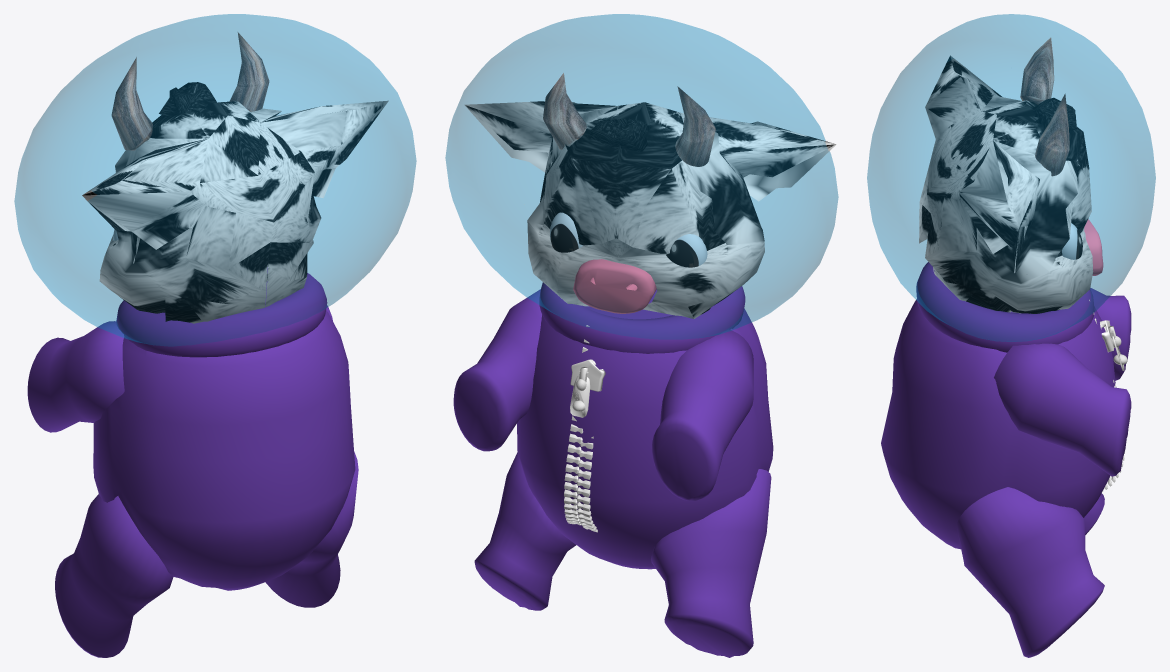
Rendered from spacecow.fbx.
3 views of the same model, side by side, from view 1: azimuth 30°, elevation 25°; view 2: azimuth 150°, elevation 25°; view 3: azimuth 270°, elevation 25° (orthographic). The views are drawn at different scales.
Visible parts, largest first — view 1: Helmet, Body, Head, R Arm.001, Torus, R Arm, L Leg, Horn, Horn.001, Hair tuft; view 2: Helmet, Head, Body, R Arm.001, R Arm, L arm, L Leg, Torus, Snout, Horn, Horn.001, Hair tuft (+5 smaller); view 3: Helmet, Head, Body, L Leg, L arm, Torus, Horn.001, R Arm, Horn, Hair tuft, Snout, eye.001.
Part boxes in pixels (bbox=[...]): Helmet: bbox=[14, 14, 416, 346]; Body: bbox=[93, 281, 355, 590]; Head: bbox=[82, 100, 388, 323]; R Arm.001: bbox=[55, 494, 173, 657]; Torus: bbox=[116, 267, 327, 357]; R Arm: bbox=[27, 321, 124, 432]; L Leg: bbox=[265, 451, 358, 607]; Horn: bbox=[111, 57, 152, 150]; Horn.001: bbox=[229, 32, 269, 111]; Hair tuft: bbox=[159, 82, 216, 116]; Helmet: bbox=[445, 14, 838, 339]; Head: bbox=[464, 101, 836, 318]; Body: bbox=[517, 289, 773, 569]; R Arm.001: bbox=[651, 469, 771, 657]; R Arm: bbox=[652, 329, 753, 500]; L arm: bbox=[453, 289, 541, 451]; L Leg: bbox=[474, 452, 575, 610]; Torus: bbox=[539, 282, 745, 353]; Snout: bbox=[573, 259, 656, 313]; Horn: bbox=[675, 86, 715, 166]; Horn.001: bbox=[543, 73, 586, 149]; Hair tuft: bbox=[588, 118, 651, 151]; Helmet: bbox=[867, 14, 1155, 341]; Head: bbox=[919, 55, 1093, 313]; Body: bbox=[881, 299, 1115, 549]; L Leg: bbox=[956, 487, 1104, 657]; L arm: bbox=[994, 343, 1131, 476]; Torus: bbox=[916, 262, 1094, 352]; Horn.001: bbox=[1035, 93, 1069, 176]; R Arm: bbox=[1090, 288, 1131, 380]; Horn: bbox=[1020, 37, 1054, 104]; Hair tuft: bbox=[1032, 97, 1076, 130]; Snout: bbox=[1084, 219, 1103, 275]; eye.001: bbox=[1062, 223, 1082, 259].
Size of the model in its own units: 276 by 433 by 199.
7 materials, 3 textured.
